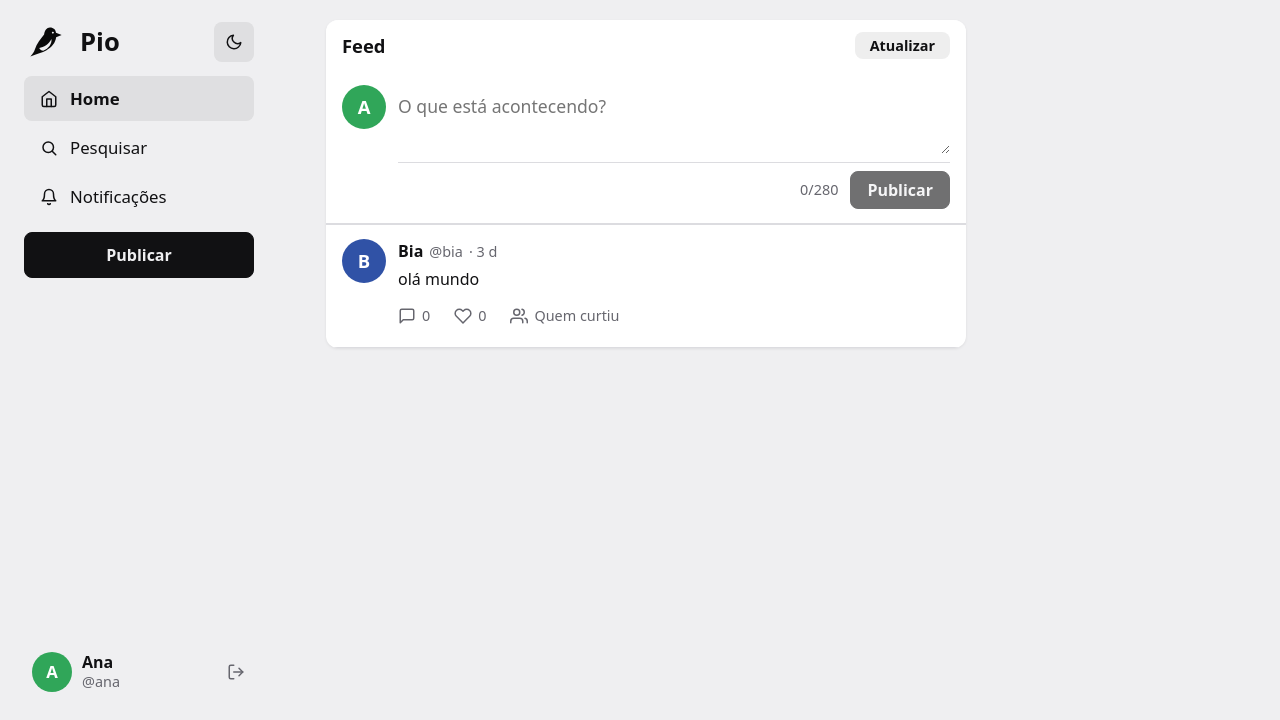
Test: feed › curtir é otimista: o coração enche na hora, antes de o servidor responder
Click the button named "Curtir (0)": {"x": 470, "y": 316} [444, 299, 496, 333]
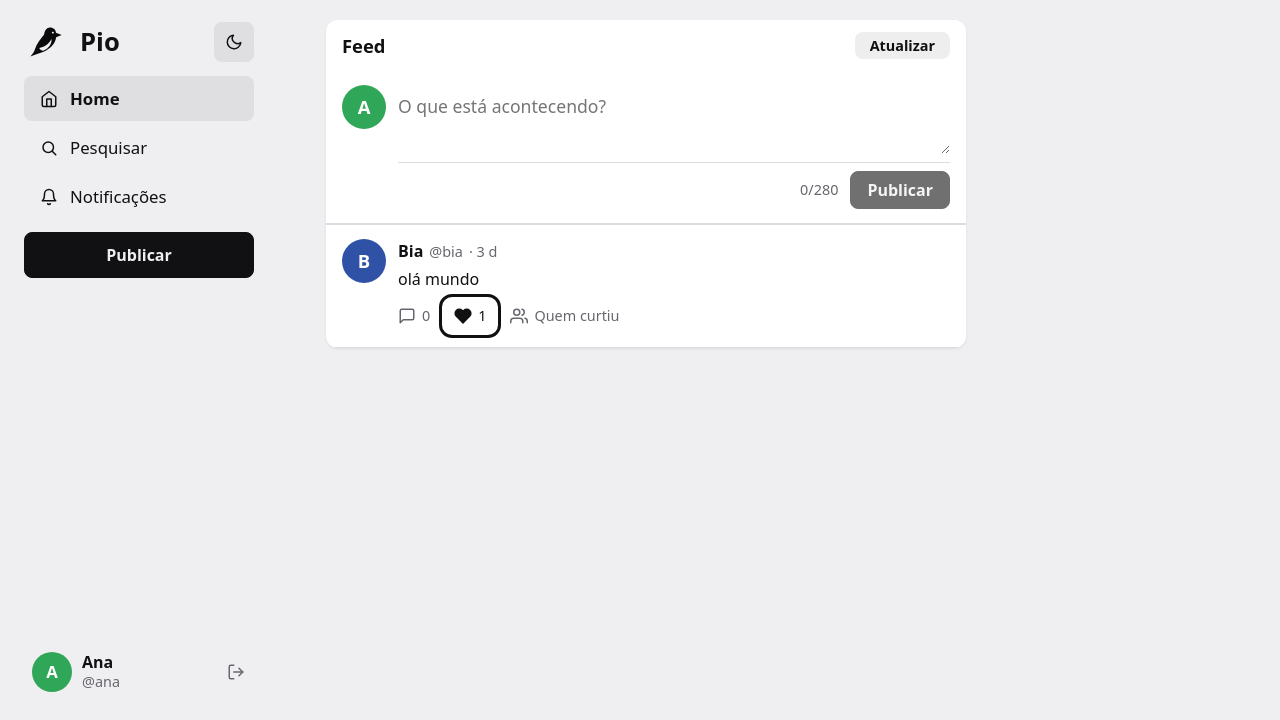
Expected: the button named "Descurtir (1)" is shown, [444, 299, 496, 333]
